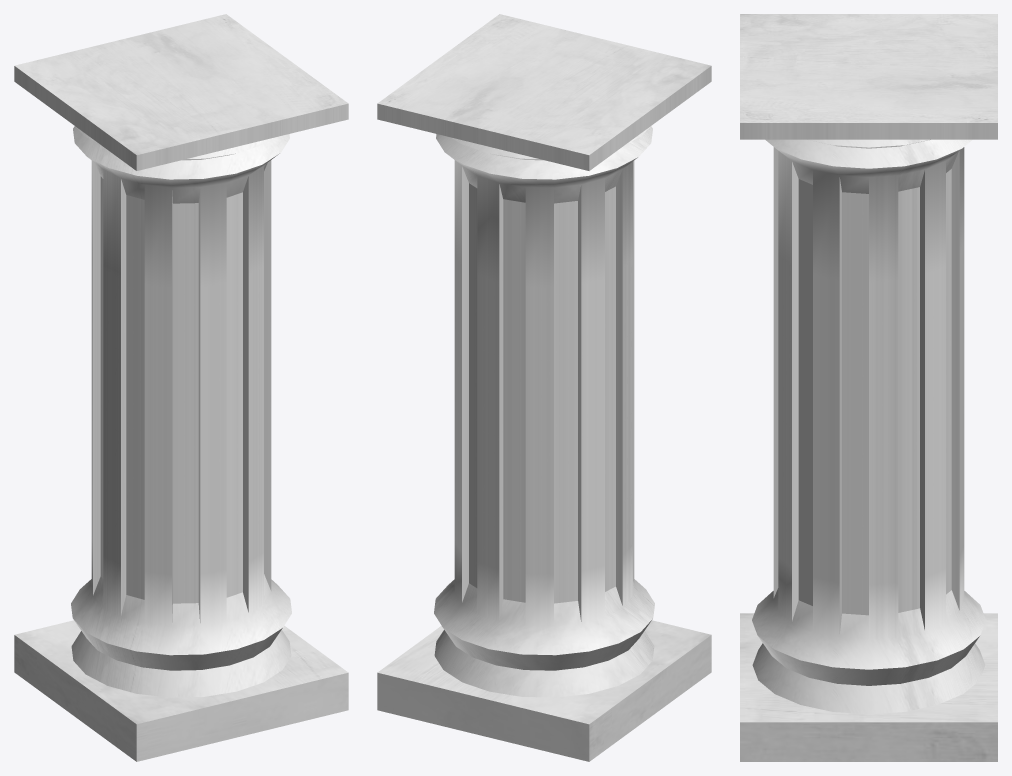
Rendered from Podium.fbx.
3 renders of one model, left to right at view 1: azimuth 30°, elevation 25°; view 2: azimuth 150°, elevation 25°; view 3: azimuth 270°, elevation 25°, orthographic. The views are drawn at different scales.
Parts seen in each view (by area): view 1: Podium; view 2: Podium; view 3: Podium.
Boxes of the visible parts, x1,y1,x2,y2 form: Podium: (14,14,348,761); Podium: (377,14,711,761); Podium: (740,14,997,761).
Bounding box in the file's own units: 1.16 × 3.16 × 1.16.
1 material, 1 textured.
